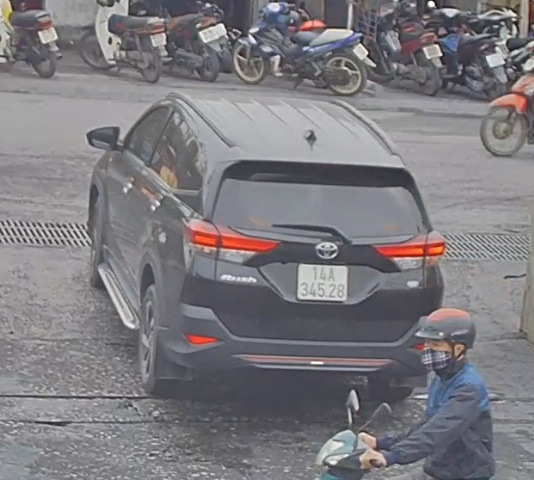vehicle plate: (296, 256, 352, 307)
